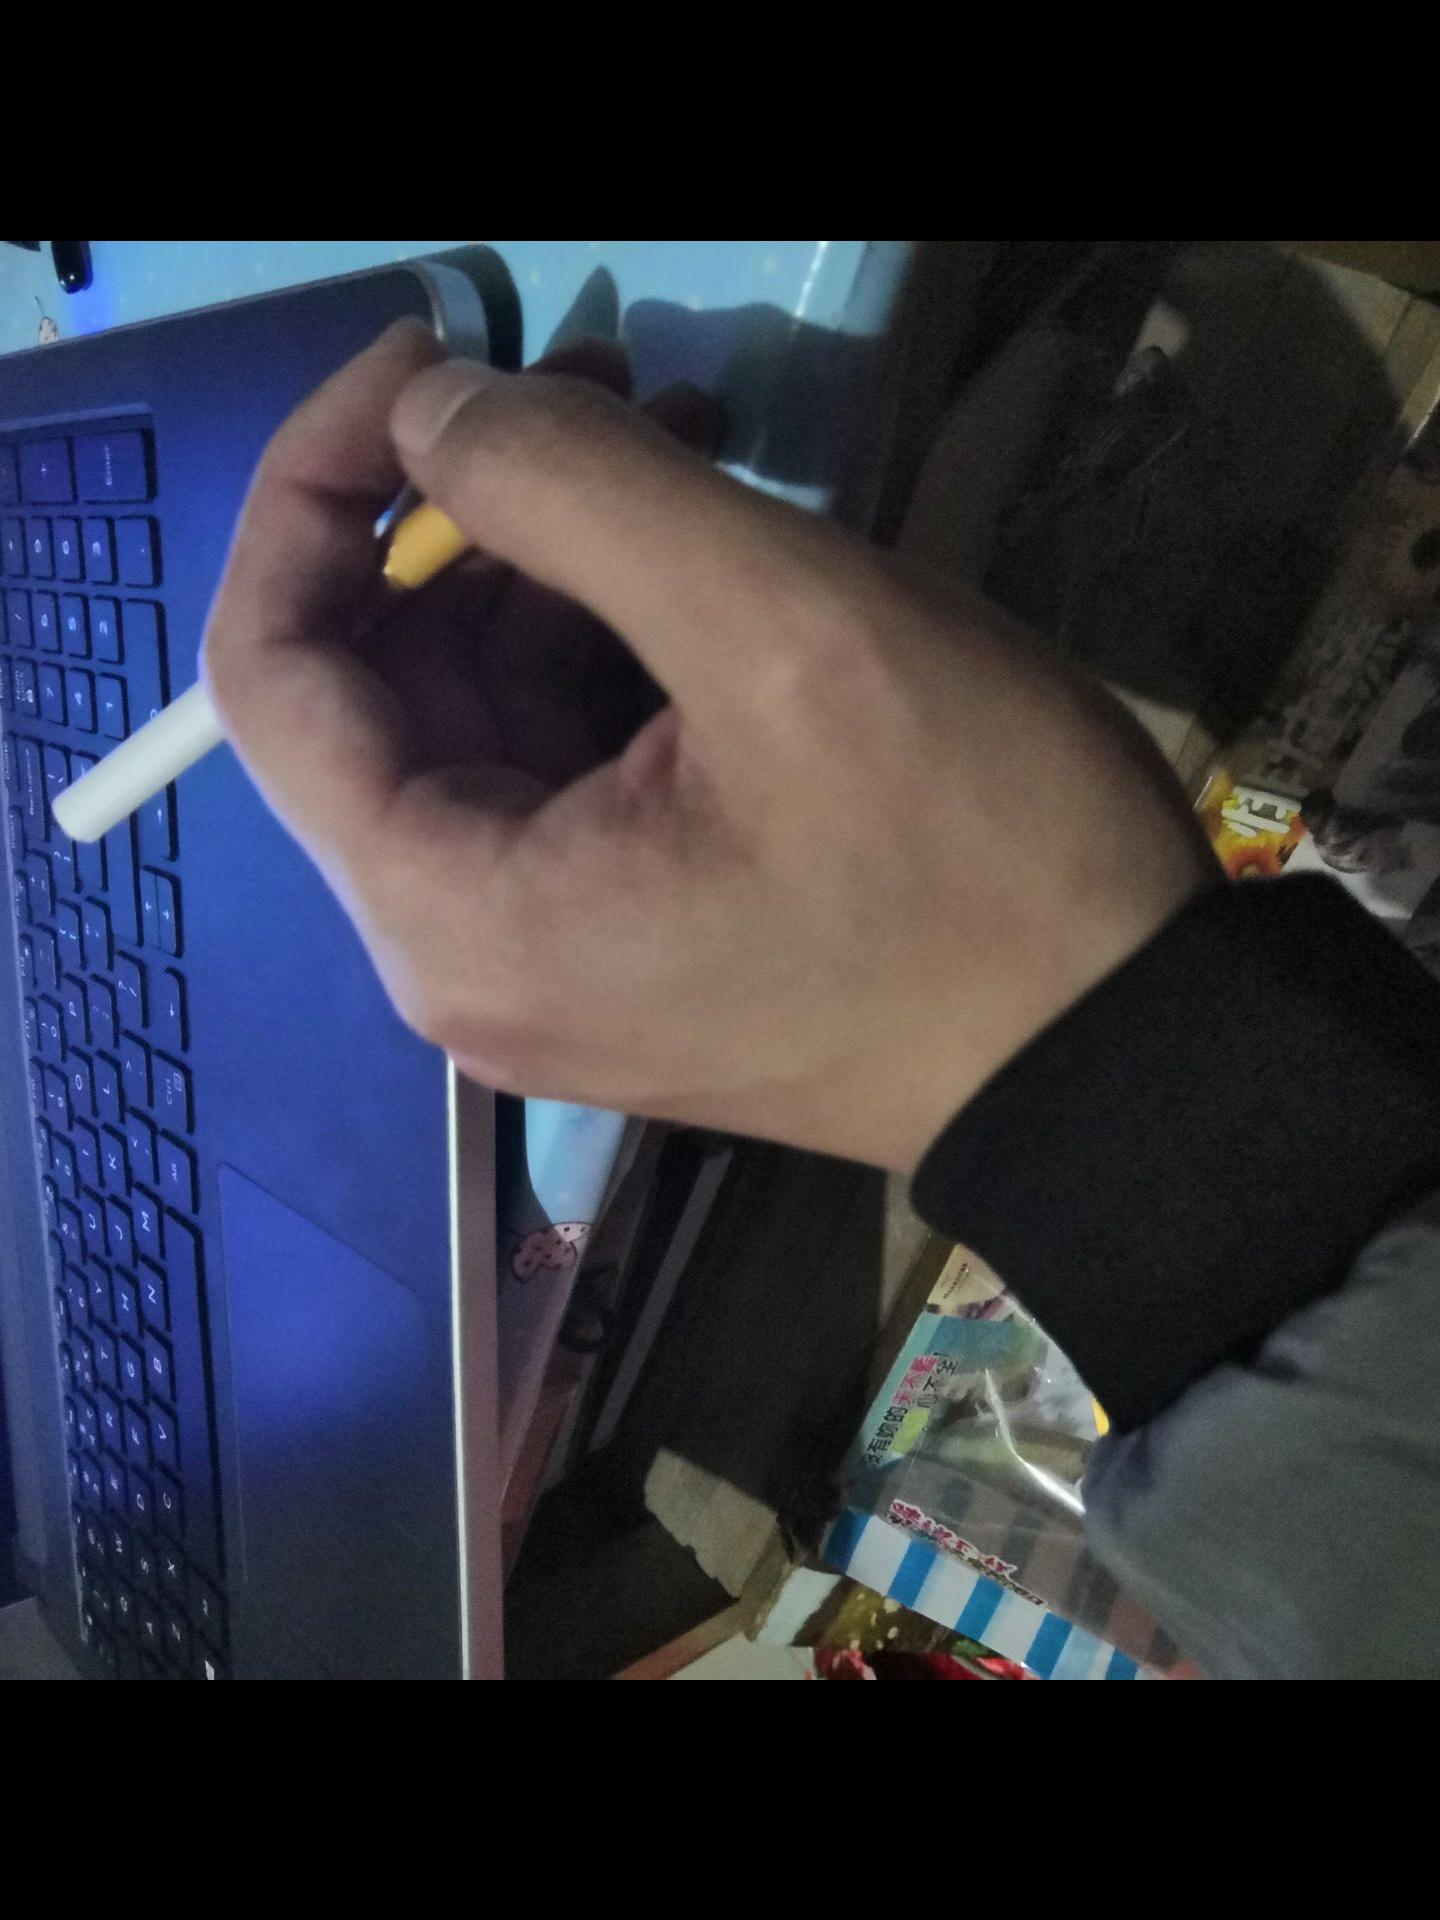Cigarette: (45, 500, 481, 848)
